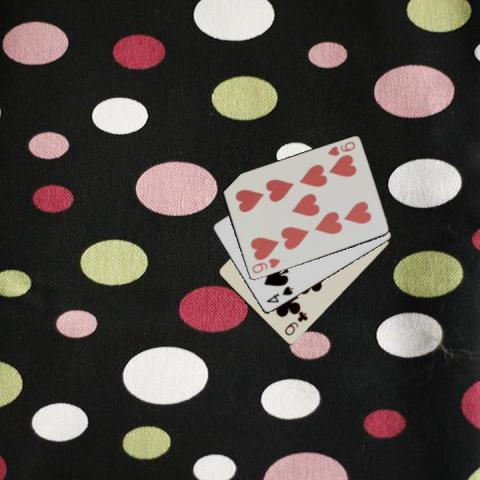4s: (263, 283, 295, 305)
9c: (282, 310, 310, 337)
9h: (249, 255, 281, 276), (324, 139, 356, 157)
